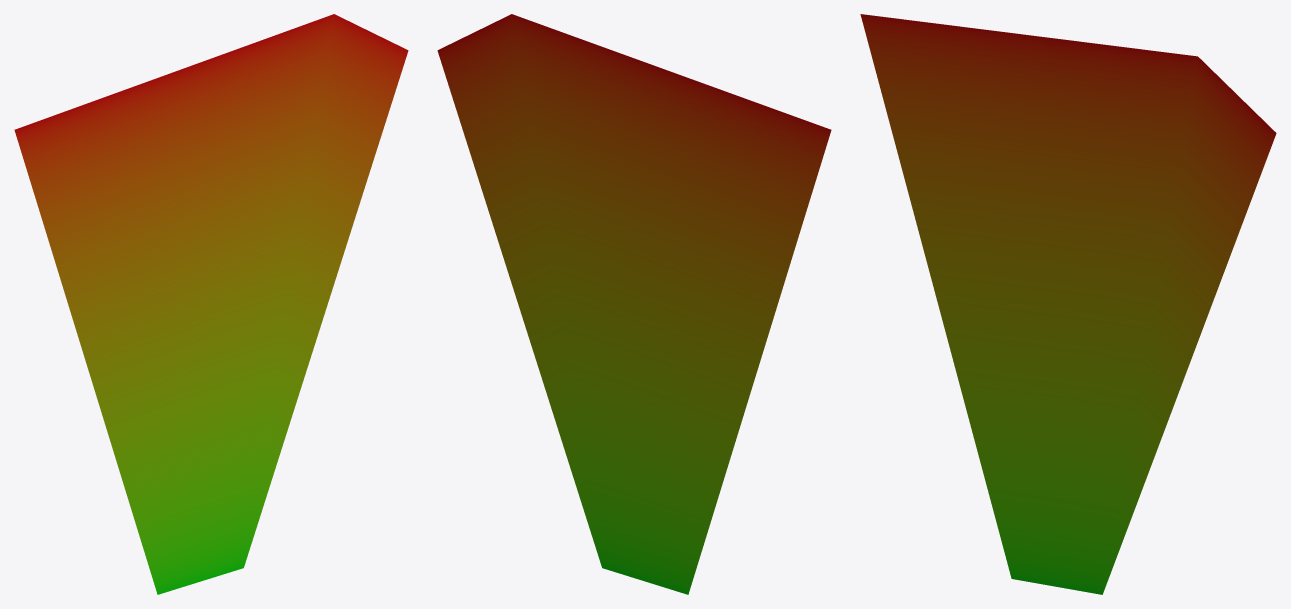
The model's file is Softstem Bulrush_LOD3_Var4_uehjcafia.fbx.
The picture shows the model from 3 angles, left to right: view 1: azimuth 30°, elevation 25°; view 2: azimuth 150°, elevation 25°; view 3: azimuth 330°, elevation 25°; orthographic projection. The views are drawn at different scales.
Parts seen in each view (by area): view 1: _9a53_Var4_LOD3; view 2: _9a53_Var4_LOD3; view 3: _9a53_Var4_LOD3.
Part boxes in pixels (bbox=[...]): _9a53_Var4_LOD3: bbox=[14, 14, 408, 594]; _9a53_Var4_LOD3: bbox=[437, 14, 831, 594]; _9a53_Var4_LOD3: bbox=[860, 14, 1276, 594].
Size of the model in its own units: 105 by 137 by 7.63e-06.
